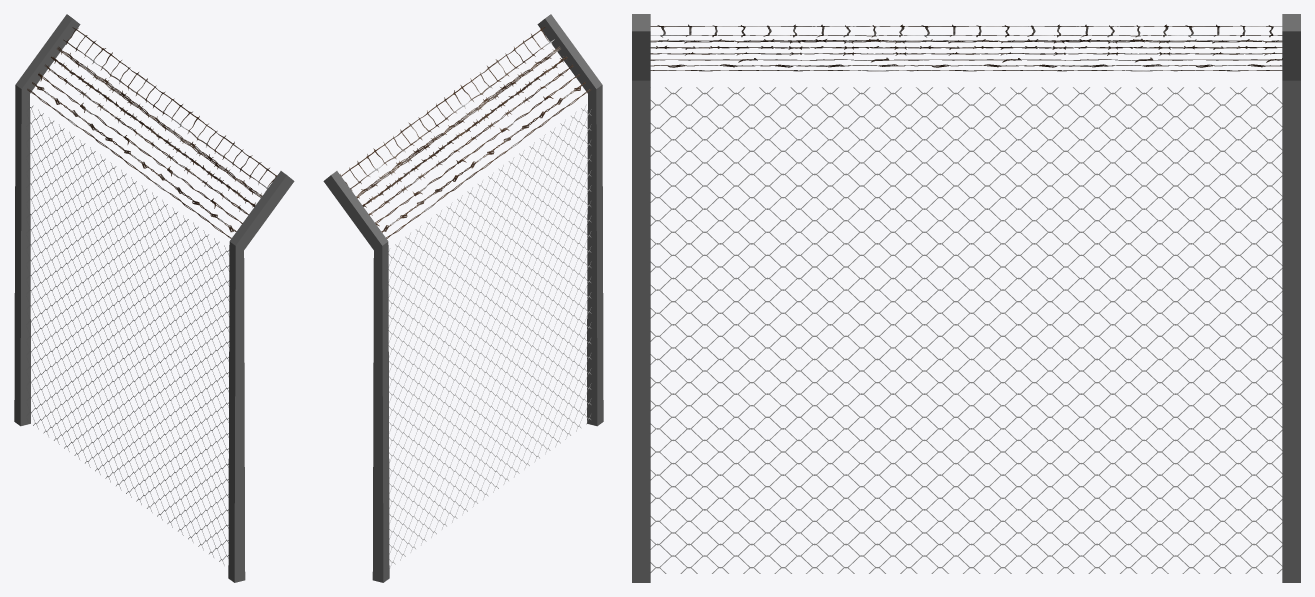
The model's file is Chainlink_fence.fbx.
The picture shows the model from 3 angles, left to right: view 1: azimuth 30°, elevation 25°; view 2: azimuth 150°, elevation 25°; view 3: azimuth 270°, elevation 25°; orthographic projection. The views are drawn at different scales.
Parts seen in each view (by area): view 1: Chainlink, Fencepost, Fencepost 2, Plane; view 2: Chainlink, Fencepost 2, Fencepost, Plane; view 3: Chainlink, Fencepost, Fencepost 2, Plane.
Boxes of the visible parts, bbox=[...] form: Chainlink: bbox=[26, 102, 229, 565]; Fencepost: bbox=[228, 171, 294, 582]; Fencepost 2: bbox=[14, 14, 80, 426]; Plane: bbox=[27, 27, 277, 238]; Chainlink: bbox=[388, 104, 591, 567]; Fencepost 2: bbox=[323, 171, 389, 582]; Fencepost: bbox=[537, 14, 603, 426]; Plane: bbox=[340, 26, 590, 238]; Chainlink: bbox=[650, 87, 1282, 573]; Fencepost: bbox=[632, 14, 650, 582]; Fencepost 2: bbox=[1282, 14, 1300, 582]; Plane: bbox=[650, 24, 1282, 71].
Size of the model in its own units: 121 by 764 by 772.
